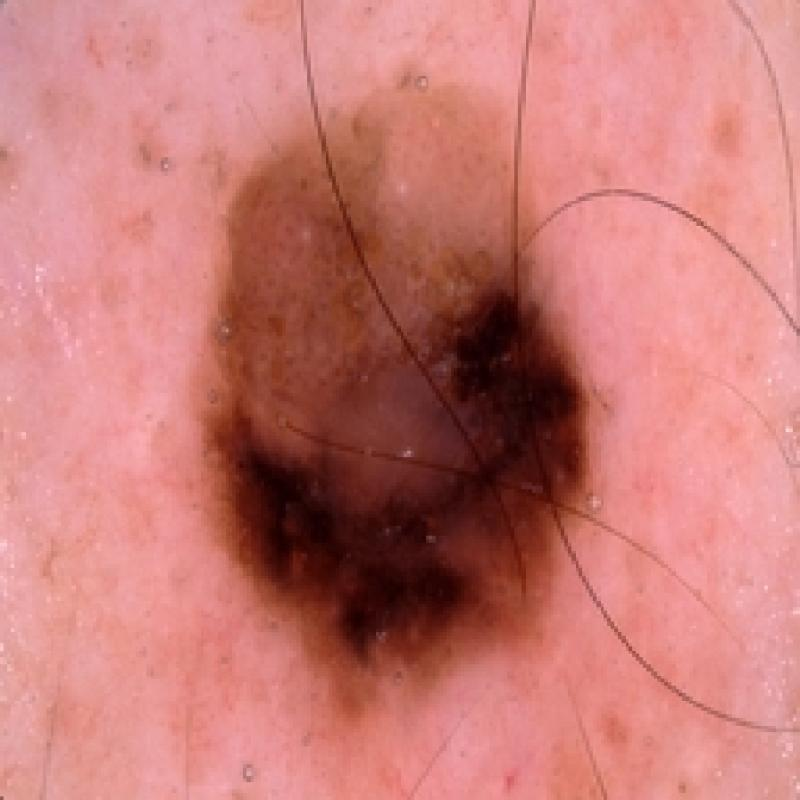malignant: (190, 75, 602, 700)
